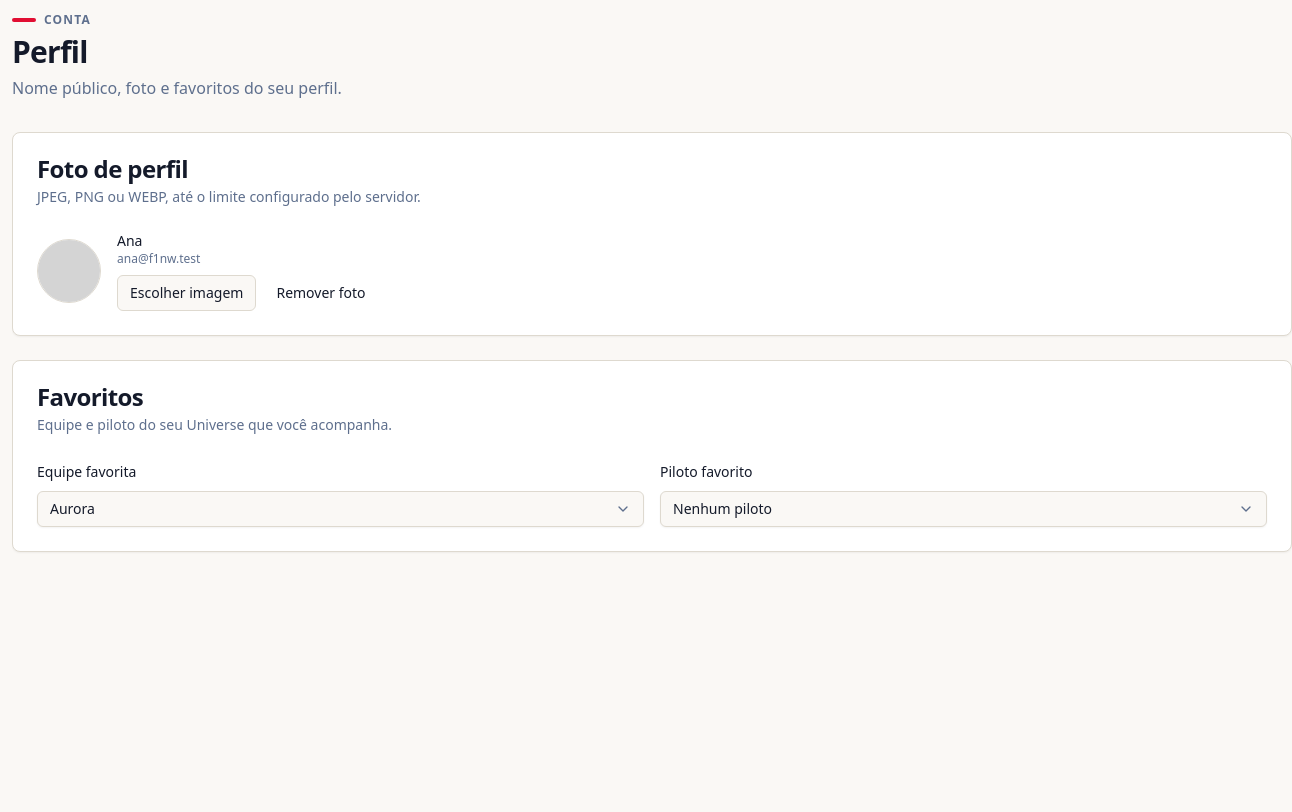
it: ProfilePage › remove o avatar pelo endpoint de domínio
Check: the text "Ana" is shown, box [117,231,142,250]
Click the button "Remover foto": {"x": 321, "y": 293} [264,275,378,311]
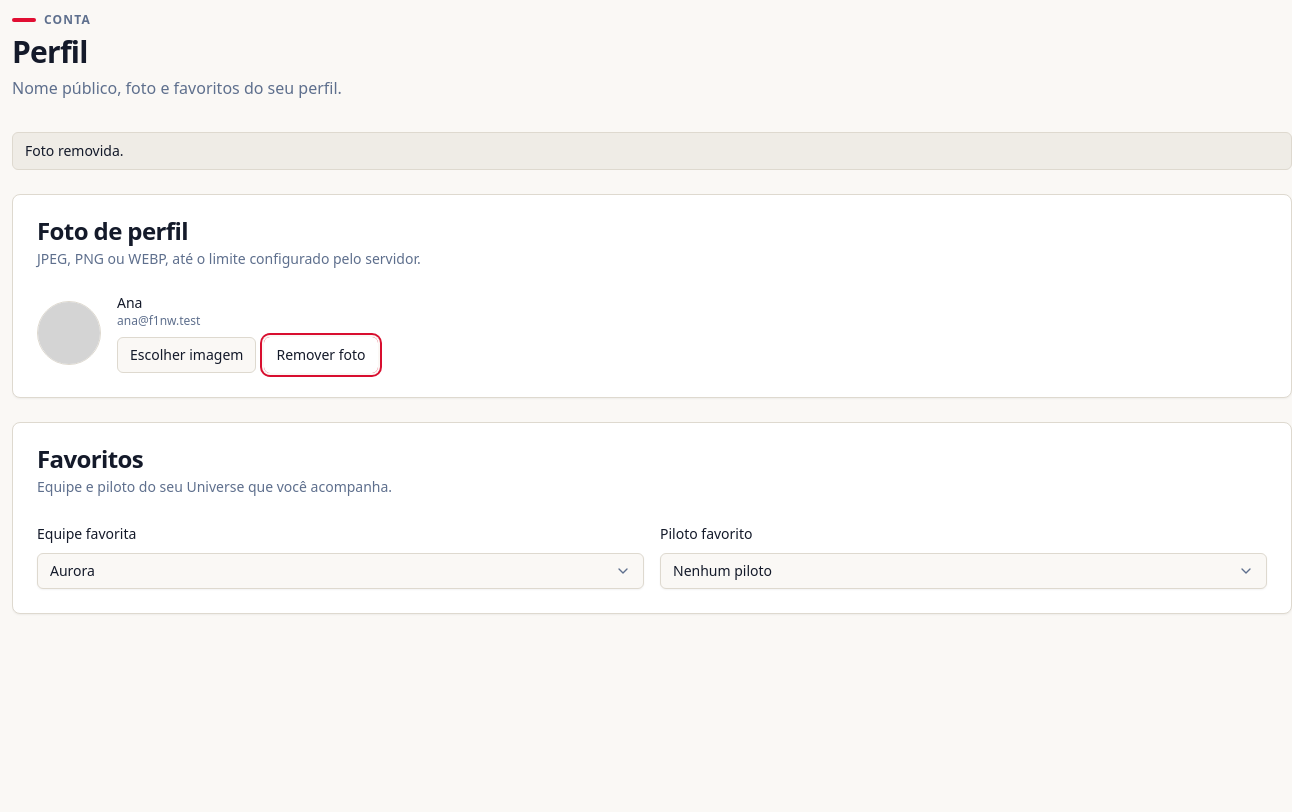
Check: the text "Foto removida." is shown, box [12,132,1291,170]
